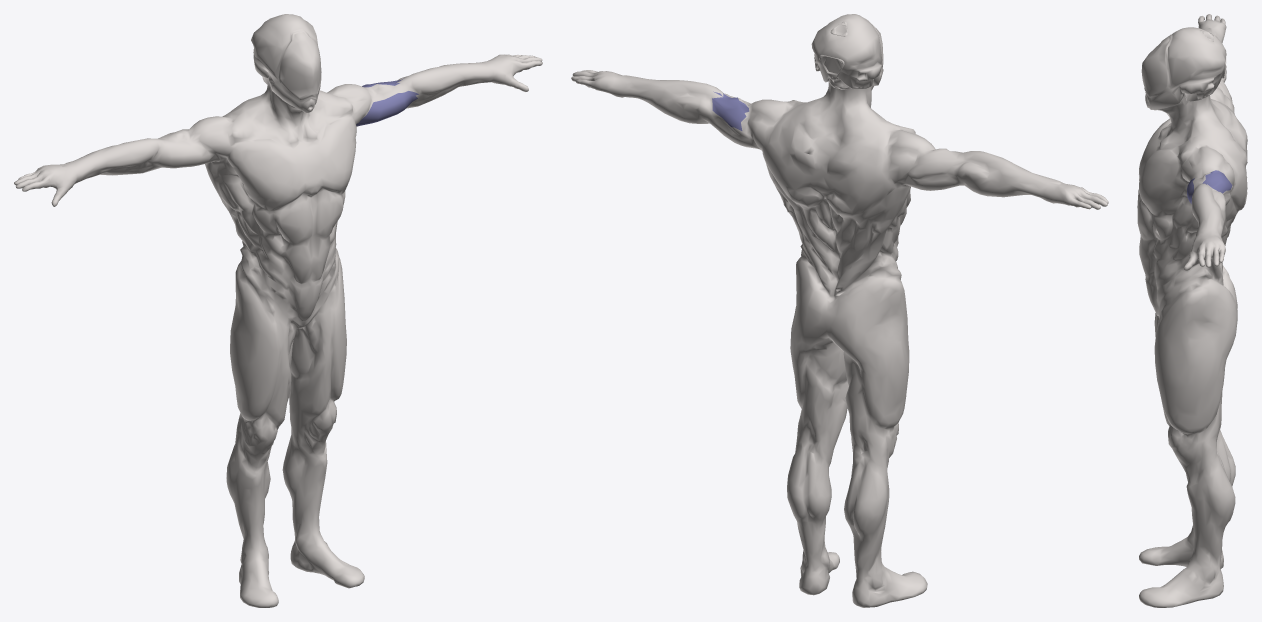
3 views of the same model, side by side, from view 1: azimuth 30°, elevation 25°; view 2: azimuth 150°, elevation 25°; view 3: azimuth 270°, elevation 25° (orthographic). The views are drawn at different scales.
Visible parts, largest first — view 1: mixamo-2.001; view 2: mixamo-2.001; view 3: mixamo-2.001.
Boxes of the visible parts, left/top/right/bottom form: mixamo-2.001: left=14, top=14, right=542, bottom=607; mixamo-2.001: left=571, top=14, right=1108, bottom=607; mixamo-2.001: left=1137, top=14, right=1247, bottom=607.
Size of the model in its own units: 1.78 by 1.82 by 0.3296.
